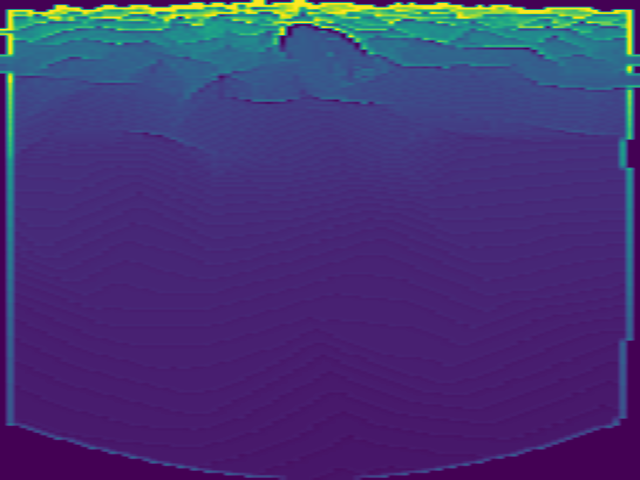car_0198: (277, 20, 370, 61)
